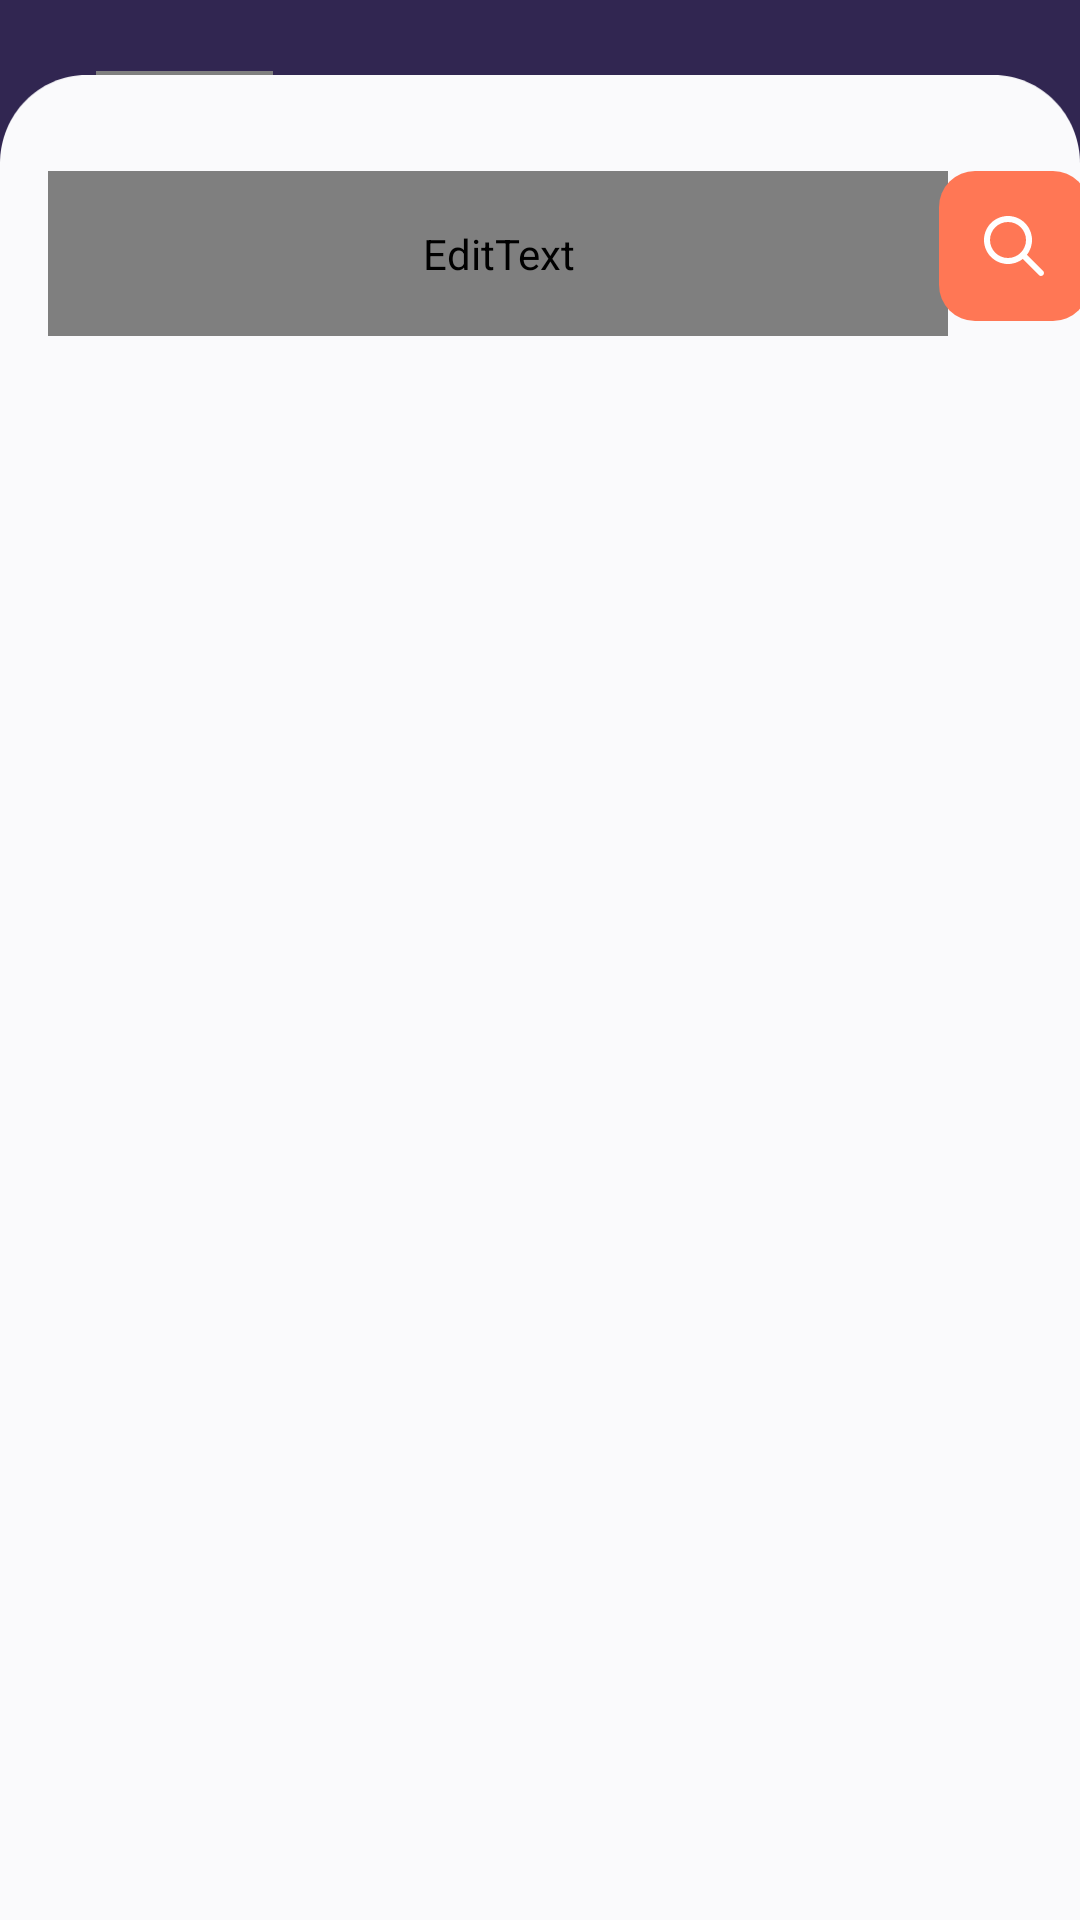

Locate icon controls on the screen. Image size 1080 × 1920, boxes as (x1, y1, x2, y2).
search: (939, 171, 1080, 321)
